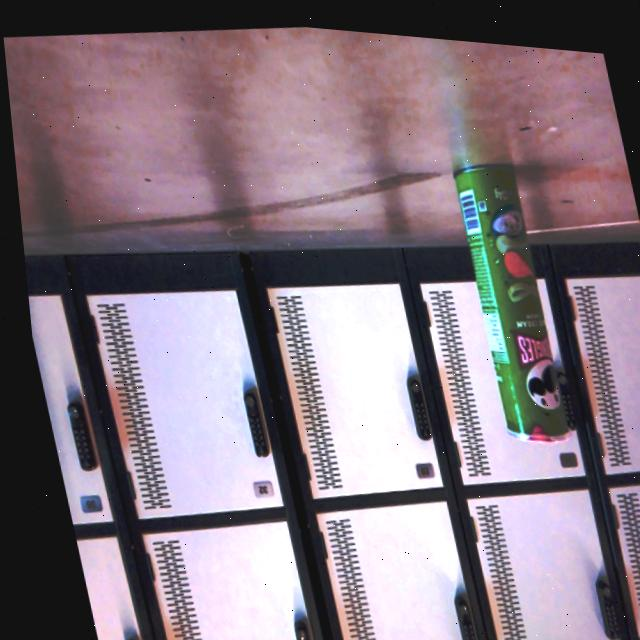greenpringles: (436, 138, 572, 449)
